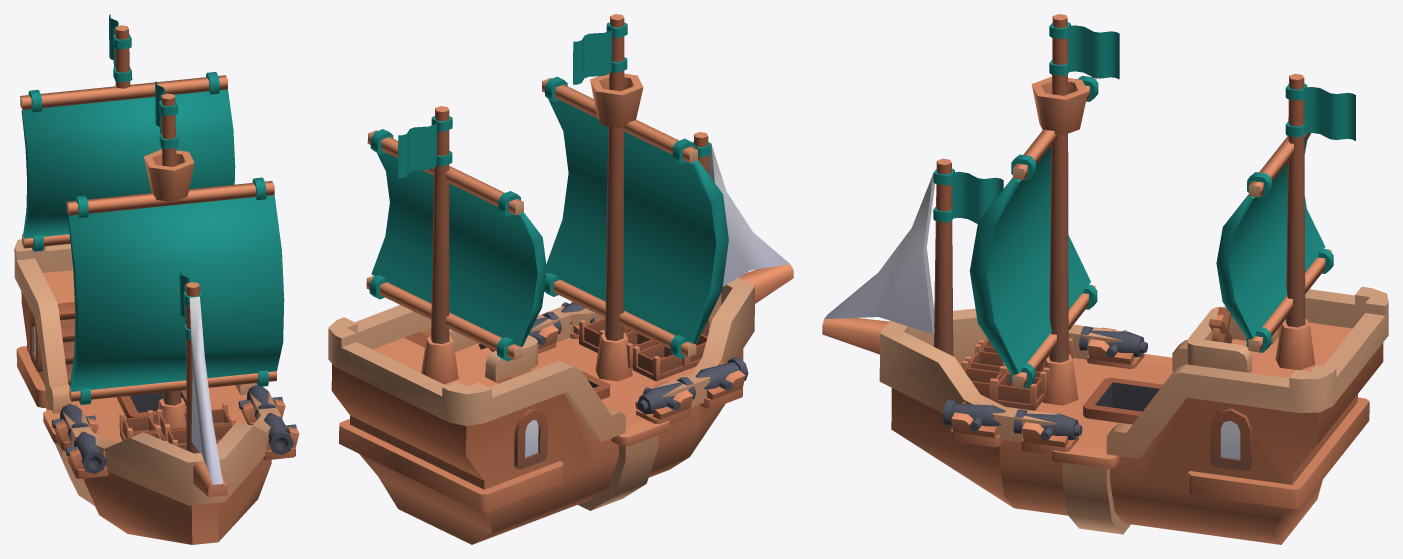
Rendered from ship-trader.glb.
The picture shows the model from 3 angles, left to right: view 1: azimuth 30°, elevation 25°; view 2: azimuth 150°, elevation 25°; view 3: azimuth 270°, elevation 25°; orthographic projection. The views are drawn at different scales.
Parts seen in each view (by area): view 1: sail-a.012, Hull + rigging.006, sail-b.006, Cannon slot -1 0.006, Cannon slot 1 0.006, flag-b.009, flag-c.009, crate.027, Cannon slot -1 1.004, Cannon slot 1 1.004, flag-a.009, crate.028; view 2: Hull + rigging.006, sail-a.012, sail-b.006, flag-b.009, flag-c.009, Cannon slot -1 1.004, crate.027, Cannon slot -1 0.006, crate.031; view 3: Hull + rigging.006, sail-a.012, sail-b.006, flag-b.009, flag-c.009, flag-a.009, Cannon slot 1 0.006, Cannon slot 1 1.004, crate.031, Cannon slot -1 1.004, crate.030.
Boxes of the visible parts, box(x1,y1,x2,y2) form: sail-a.012: box(66, 177, 284, 404); Hull + rigging.006: box(14, 25, 280, 544); sail-b.006: box(20, 72, 235, 251); Cannon slot -1 0.006: box(65, 431, 108, 478); Cannon slot 1 0.006: box(263, 412, 296, 459); flag-b.009: box(155, 81, 178, 148); flag-c.009: box(109, 14, 132, 82); crate.027: box(119, 410, 160, 440); Cannon slot -1 1.004: box(51, 404, 95, 451); Cannon slot 1 1.004: box(238, 385, 282, 425); flag-a.009: box(179, 271, 202, 339); crate.028: box(165, 425, 186, 449); Hull + rigging.006: box(328, 14, 793, 544); sail-a.012: box(542, 76, 728, 358); sail-b.006: box(366, 129, 546, 361); flag-b.009: box(573, 22, 627, 84); flag-c.009: box(398, 116, 452, 178); Cannon slot -1 1.004: box(636, 377, 696, 424); crate.027: box(632, 344, 687, 381); Cannon slot -1 0.006: box(695, 357, 748, 408); crate.031: box(579, 318, 631, 352); Hull + rigging.006: box(822, 14, 1388, 544); sail-a.012: box(969, 75, 1098, 388); sail-b.006: box(1216, 133, 1333, 352); flag-b.009: box(1049, 22, 1119, 79); flag-c.009: box(1285, 83, 1355, 140); flag-a.009: box(933, 168, 1003, 223); Cannon slot 1 0.006: box(943, 399, 1005, 447); Cannon slot 1 1.004: box(1013, 409, 1082, 455); crate.031: box(992, 366, 1046, 410); Cannon slot -1 1.004: box(1079, 326, 1147, 369); crate.030: box(961, 360, 1005, 400).
Bounding box in the file's own units: 6.5 × 9.98 × 10.68.
5 materials, 4 textured.
